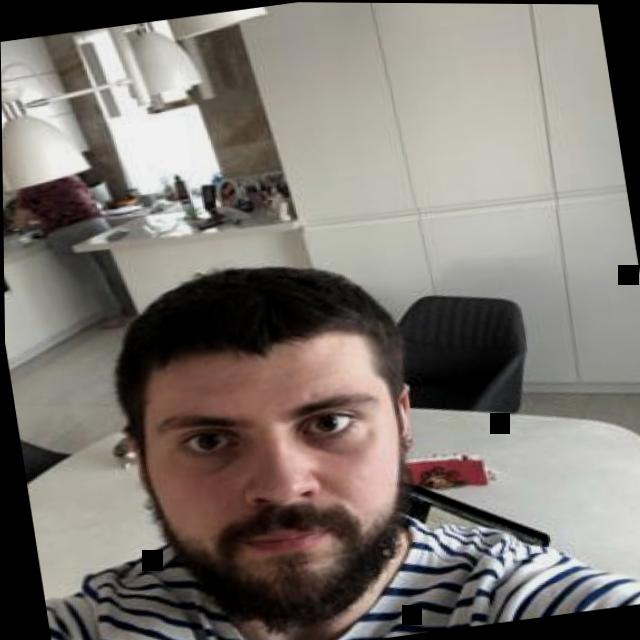NO-Mask: (124, 345, 433, 640)
